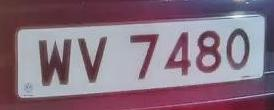0: (222, 22, 253, 74)
4: (160, 26, 197, 84)
7: (125, 27, 163, 85)
8: (192, 23, 224, 77)
V: (75, 32, 114, 89)
W: (34, 30, 76, 93)
